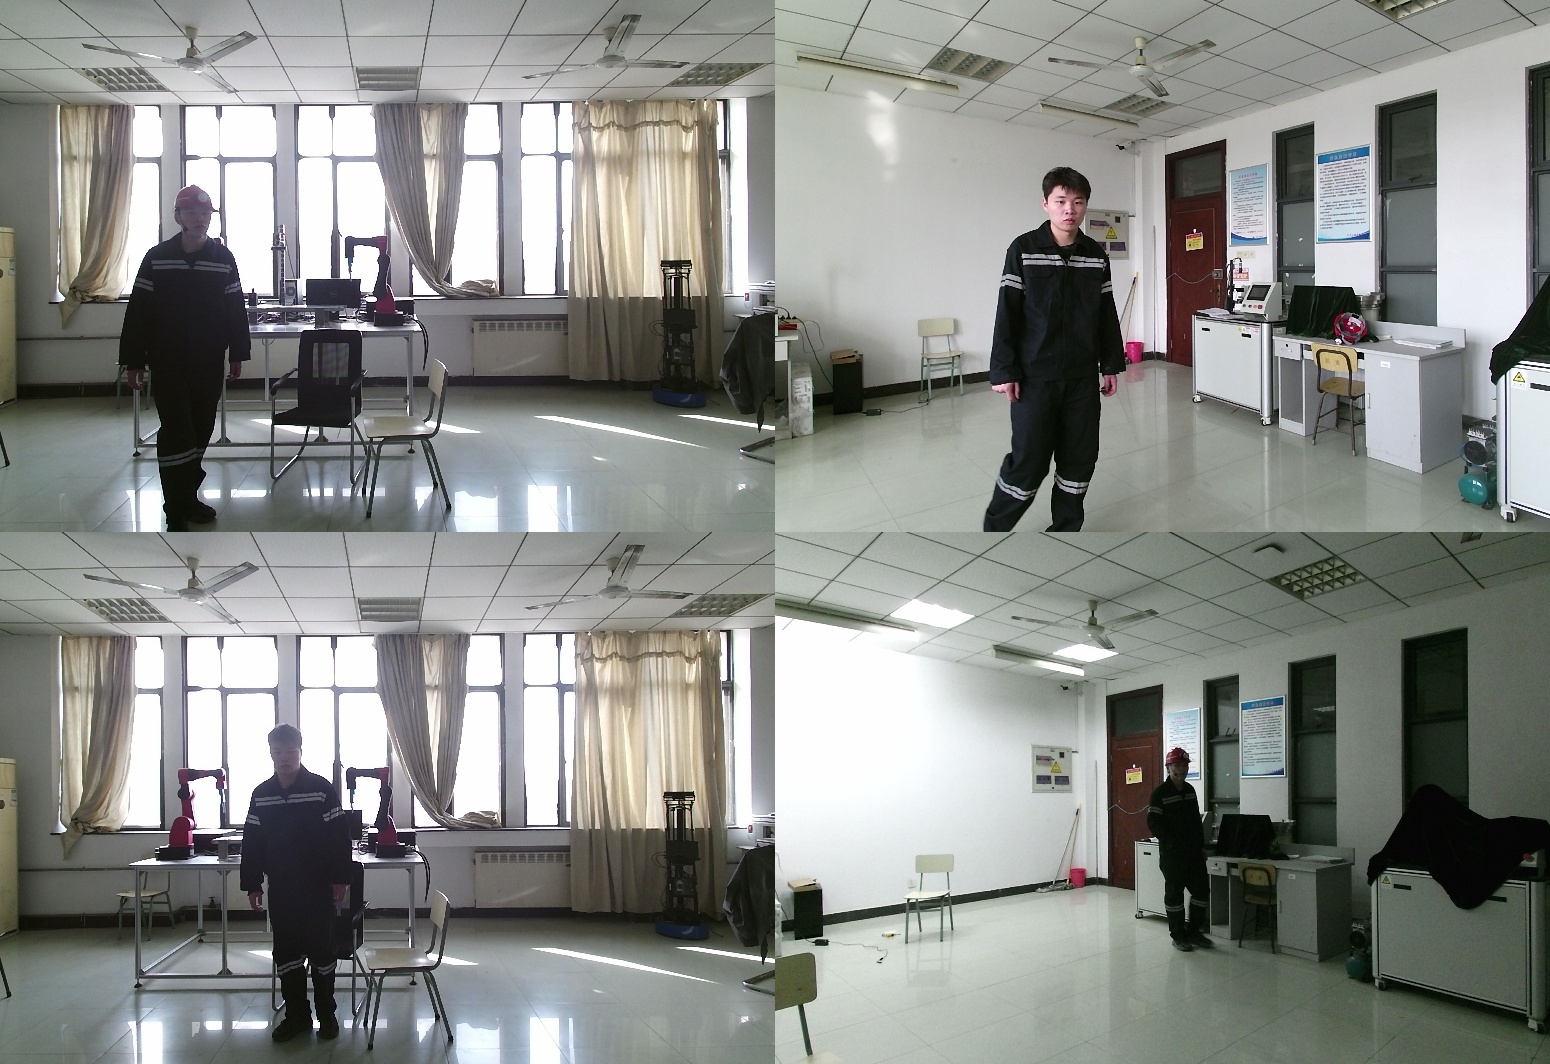person: (972, 167, 1122, 532), (121, 187, 251, 532), (242, 723, 361, 1039), (1143, 749, 1205, 956)
